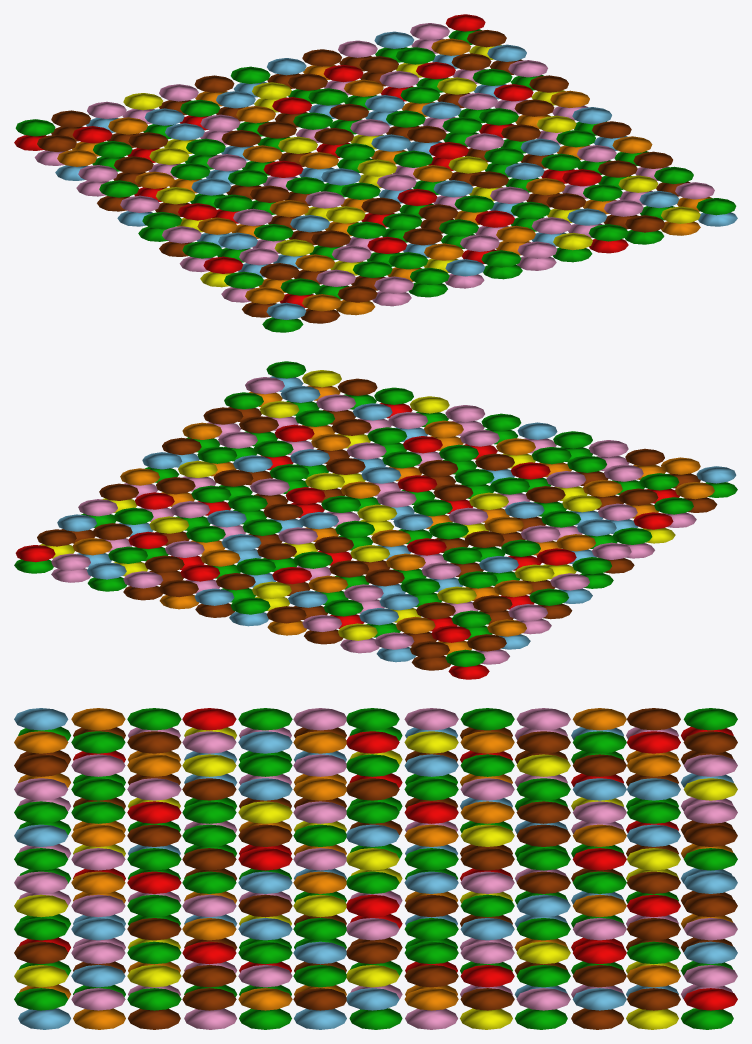
File: floor_marble.FBX
3 renders of one model, top to bottom at view 1: azimuth 30°, elevation 25°; view 2: azimuth 150°, elevation 25°; view 3: azimuth 270°, elevation 25°, orthographic. The views are drawn at different scales.
Parts seen in each view (by area): view 1: オブジェクト486; view 2: オブジェクト486; view 3: オブジェクト486.
Boxes of the visible parts, left/top/right/bottom form: オブジェクト486: left=14, top=14, right=737, bottom=332; オブジェクト486: left=14, top=361, right=737, bottom=679; オブジェクト486: left=14, top=708, right=737, bottom=1029.
Bounding box in the file's own units: 102 × 3.99 × 102.
